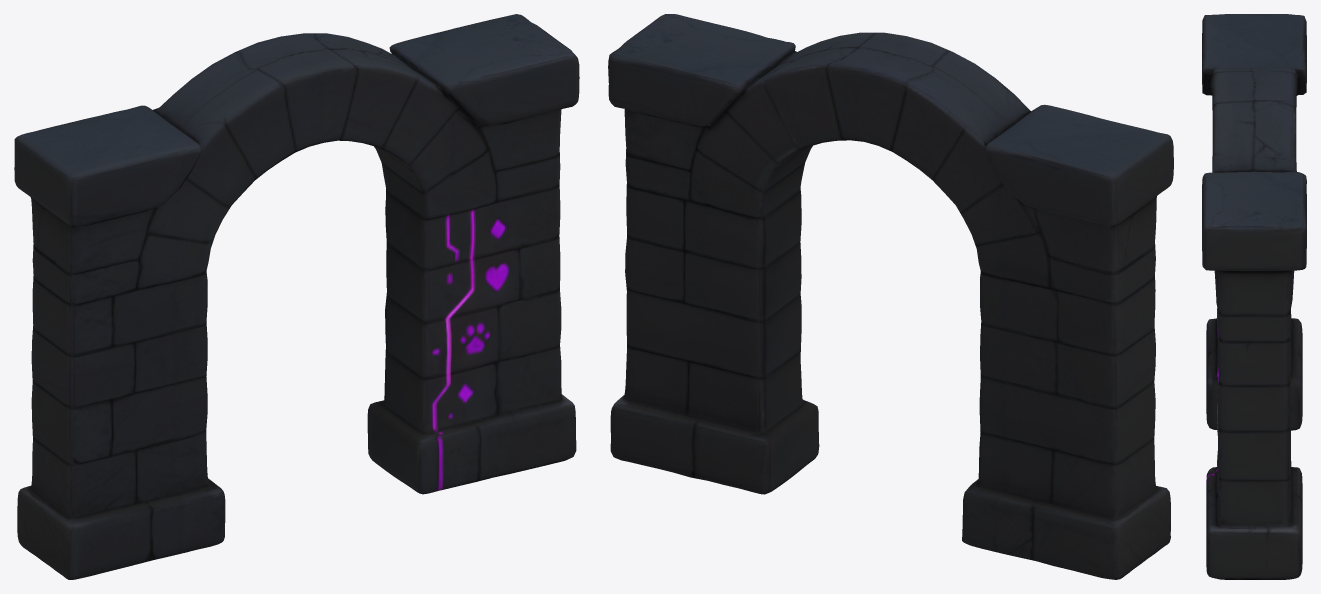
File: Arch_O.fbx
The picture shows the model from 3 angles, left to right: view 1: azimuth 30°, elevation 25°; view 2: azimuth 150°, elevation 25°; view 3: azimuth 270°, elevation 25°; orthographic projection. The views are drawn at different scales.
Parts seen in each view (by area): view 1: RETOPO; view 2: RETOPO; view 3: RETOPO.
Part boxes in pixels (bbox=[...]): RETOPO: bbox=[14, 14, 579, 579]; RETOPO: bbox=[608, 14, 1173, 579]; RETOPO: bbox=[1202, 14, 1306, 579].
Bounding box in the file's own units: 99.99 × 83.94 × 20.48.
